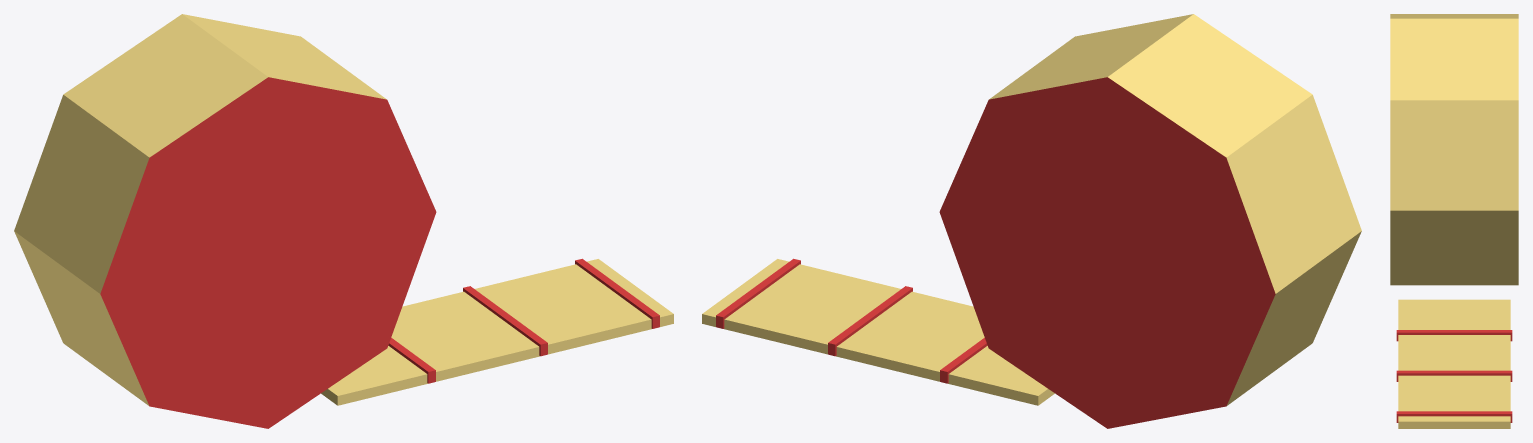
The model's file is TicketRoll.fbx.
3 views of the same model, side by side, from view 1: azimuth 30°, elevation 25°; view 2: azimuth 150°, elevation 25°; view 3: azimuth 270°, elevation 25° (orthographic). The views are drawn at different scales.
Visible parts, largest first — view 1: TicketRoll; view 2: TicketRoll; view 3: TicketRoll.
Part boxes in pixels (box(x1,y1,x2,y2)): TicketRoll: box(14, 14, 673, 428); TicketRoll: box(702, 14, 1361, 428); TicketRoll: box(1390, 14, 1518, 428).
Bounding box in the file's own units: 3.1 × 1.8 × 0.8.
1 material, 1 textured.
